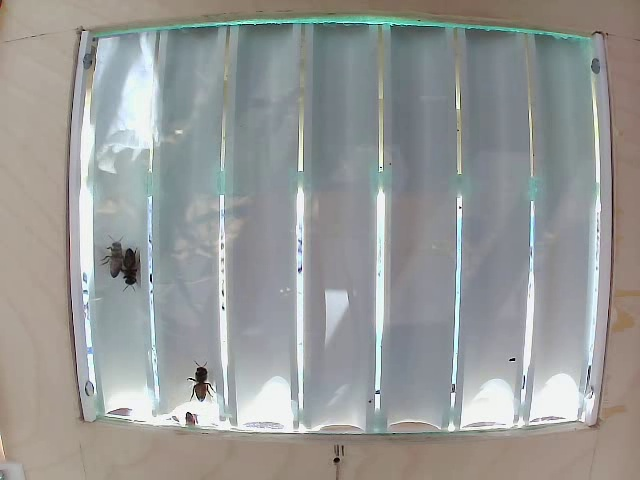bee: (183, 355, 227, 404), (120, 240, 152, 289), (96, 242, 130, 282)
